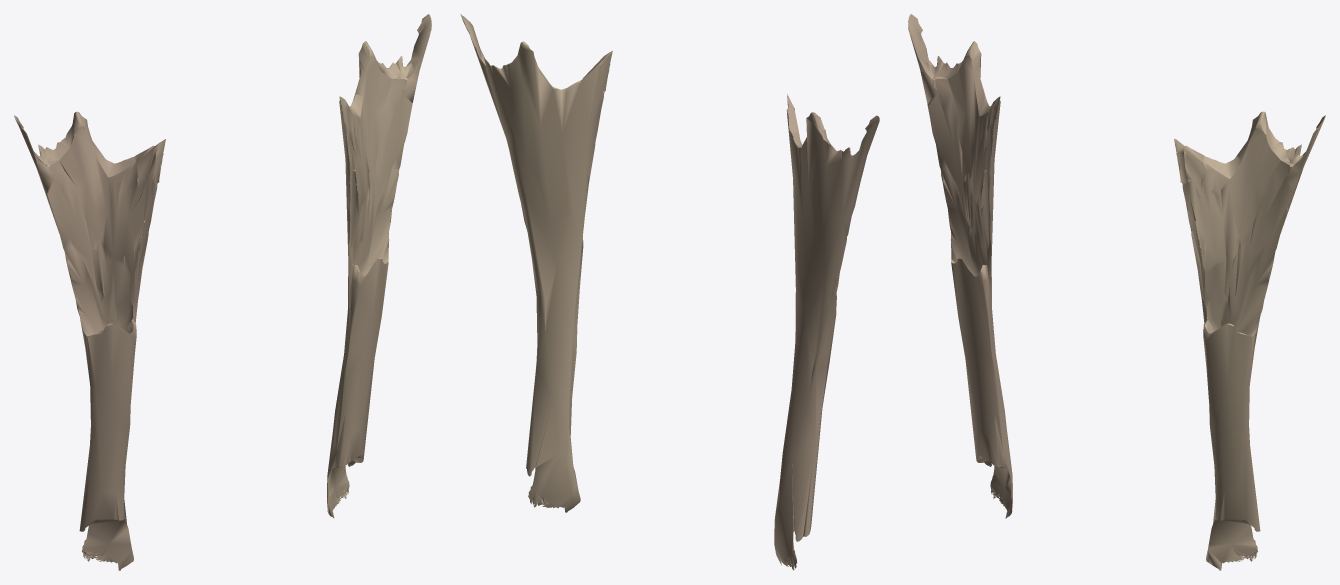
File: achilles-tendons.glb
The picture shows the model from 3 angles, left to right: view 1: azimuth 30°, elevation 25°; view 2: azimuth 150°, elevation 25°; view 3: azimuth 330°, elevation 25°; orthographic projection.
Parts seen in each view (by area): view 1: FJ1405 Right calcaneal tendon, FJ1405M Left calcaneal tendon; view 2: FJ1405M Left calcaneal tendon, FJ1405 Right calcaneal tendon; view 3: FJ1405M Left calcaneal tendon, FJ1405 Right calcaneal tendon.
Part boxes in pixels (x1,y1,x2,y2): FJ1405 Right calcaneal tendon: (14,111,165,570); FJ1405M Left calcaneal tendon: (327,14,431,518); FJ1405M Left calcaneal tendon: (460,14,612,512); FJ1405 Right calcaneal tendon: (774,94,879,570); FJ1405M Left calcaneal tendon: (1174,111,1325,570); FJ1405 Right calcaneal tendon: (908,14,1012,518).
Bounding box in the file's own units: 0.1954 × 0.214 × 0.0306.
